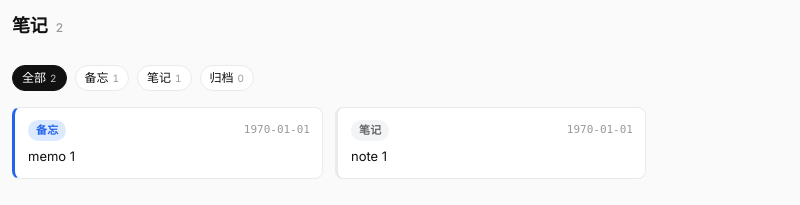
Test: NotesSection › archived view shows the archived-specific empty state when archivedNotes=[]
This screenshot has width=800, height=205.
Step 1. Click the button "归档 0" → (227, 78), box 200,65 -> 254,91
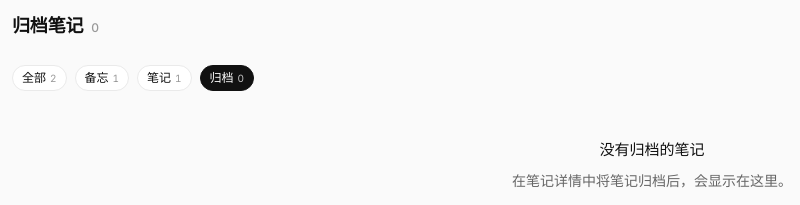
Check: the text "没有归档的笔记" is shown, box 600,139 -> 704,162
